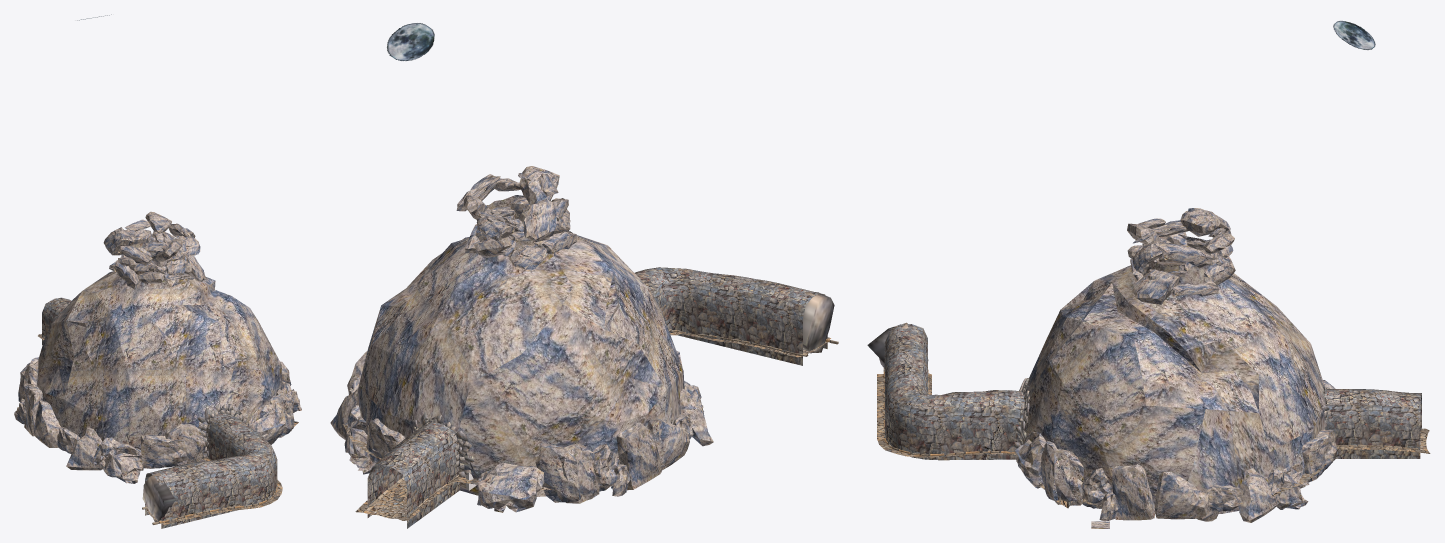
File: Level1_Part1.glb
3 renders of one model, left to right at view 1: azimuth 30°, elevation 25°; view 2: azimuth 150°, elevation 25°; view 3: azimuth 270°, elevation 25°, orthographic. The views are drawn at different scales.
Parts seen in each view (by area): view 1: Wall_Stone_col, Stone.001_col, Stone, Floor1_col; view 2: Wall_Stone_col, Floor1_col, Stone.001_col, Moon, Stone2; view 3: Wall_Stone_col, Floor1_col, Stone, Moon.
Part boxes in pixels (<box>): Wall_Stone_col: <box>14,211,301,528</box>; Stone.001_col: <box>142,472,175,521</box>; Stone: <box>142,403,277,524</box>; Floor1_col: <box>38,334,298,524</box>; Wall_Stone_col: <box>330,166,827,528</box>; Floor1_col: <box>342,332,830,520</box>; Stone.001_col: <box>792,292,834,353</box>; Moon: <box>387,23,434,60</box>; Stone2: <box>369,412,476,515</box>; Wall_Stone_col: <box>884,208,1421,522</box>; Floor1_col: <box>877,373,1430,508</box>; Stone: <box>883,368,1029,456</box>; Moon: <box>1333,21,1375,49</box>.
Bounding box in the file's own units: 37.27 × 57.45 × 60.92.
Materials: 18 (16 with a texture image).
